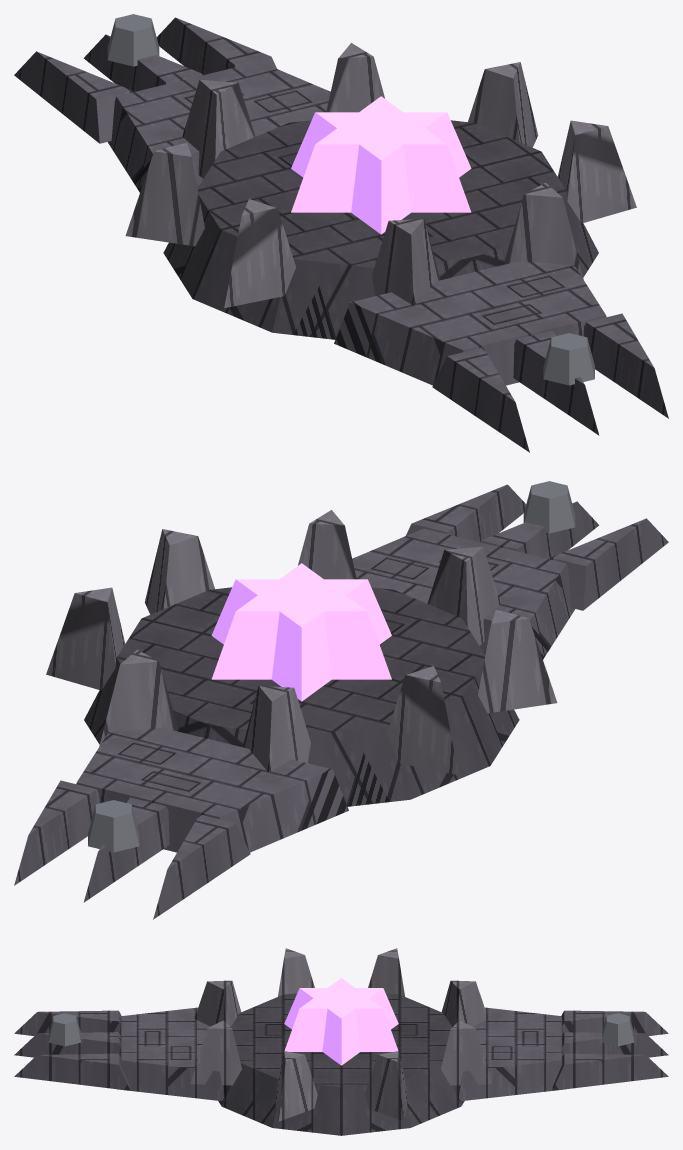
Rendered from crown_iris.glb.
3 views of the same model, one above another, from view 1: azimuth 30°, elevation 25°; view 2: azimuth 150°, elevation 25°; view 3: azimuth 270°, elevation 25° (orthographic). The views are drawn at different scales.
Size of the model in its own units: 41.57 by 12 by 90.
7 materials, 4 textured.
